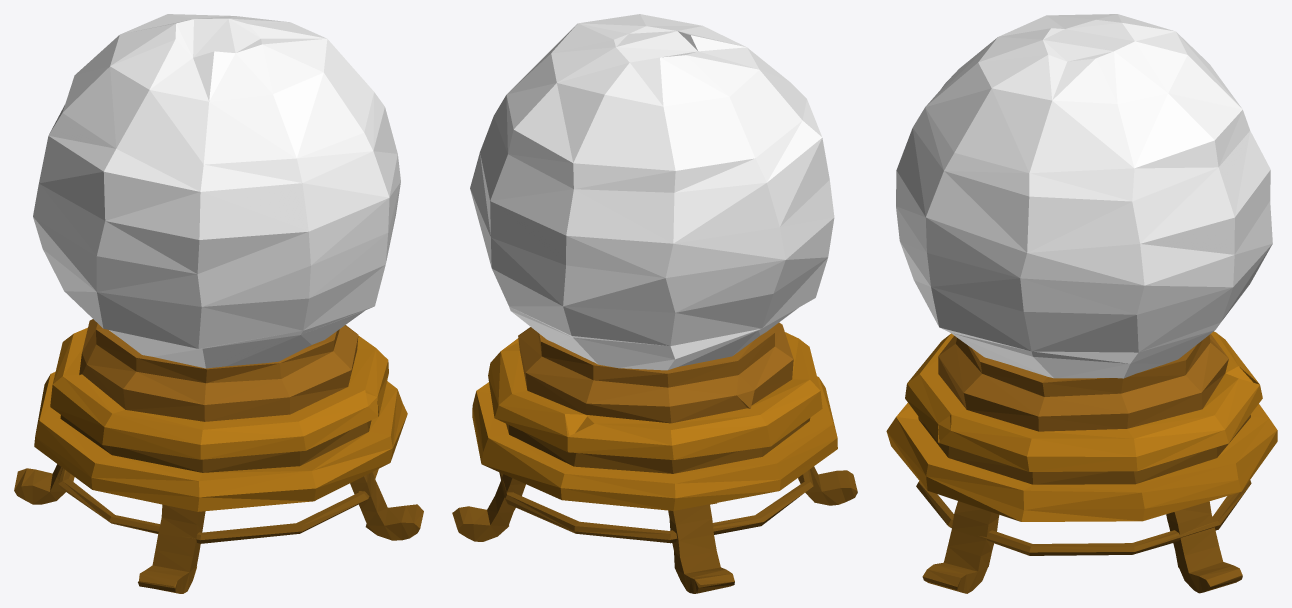
The model's file is AWS_Magic_Ball.fbx.
The picture shows the model from 3 angles, left to right: view 1: azimuth 30°, elevation 25°; view 2: azimuth 150°, elevation 25°; view 3: azimuth 270°, elevation 25°; orthographic projection. The views are drawn at different scales.
Parts seen in each view (by area): view 1: AWS_Magic_Ball; view 2: AWS_Magic_Ball; view 3: AWS_Magic_Ball.
Part boxes in pixels (bbox=[...]): AWS_Magic_Ball: bbox=[14, 14, 423, 593]; AWS_Magic_Ball: bbox=[452, 14, 857, 593]; AWS_Magic_Ball: bbox=[886, 14, 1277, 593].
Size of the model in its own units: 22.4 by 32.54 by 23.33.
